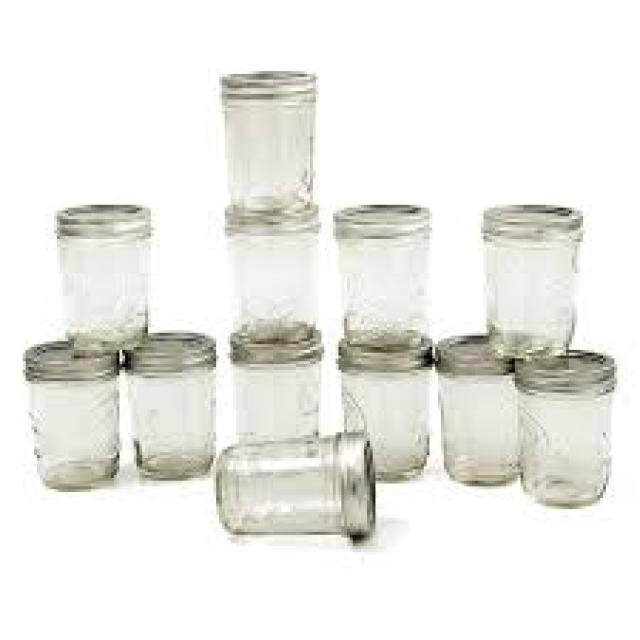glass: (478, 228, 577, 353), (217, 435, 342, 532), (515, 387, 609, 506), (336, 230, 430, 347), (54, 230, 145, 347), (339, 364, 430, 478), (225, 225, 316, 339), (219, 94, 310, 208), (26, 376, 117, 487), (125, 364, 211, 475), (432, 370, 515, 481), (231, 358, 319, 441)
metal: (336, 430, 373, 541), (512, 347, 612, 387), (23, 333, 117, 373), (432, 333, 532, 370), (481, 197, 577, 234), (333, 330, 427, 364), (120, 327, 211, 361), (51, 199, 145, 231), (228, 322, 316, 356), (327, 196, 427, 225), (216, 63, 313, 86), (222, 196, 313, 219)
